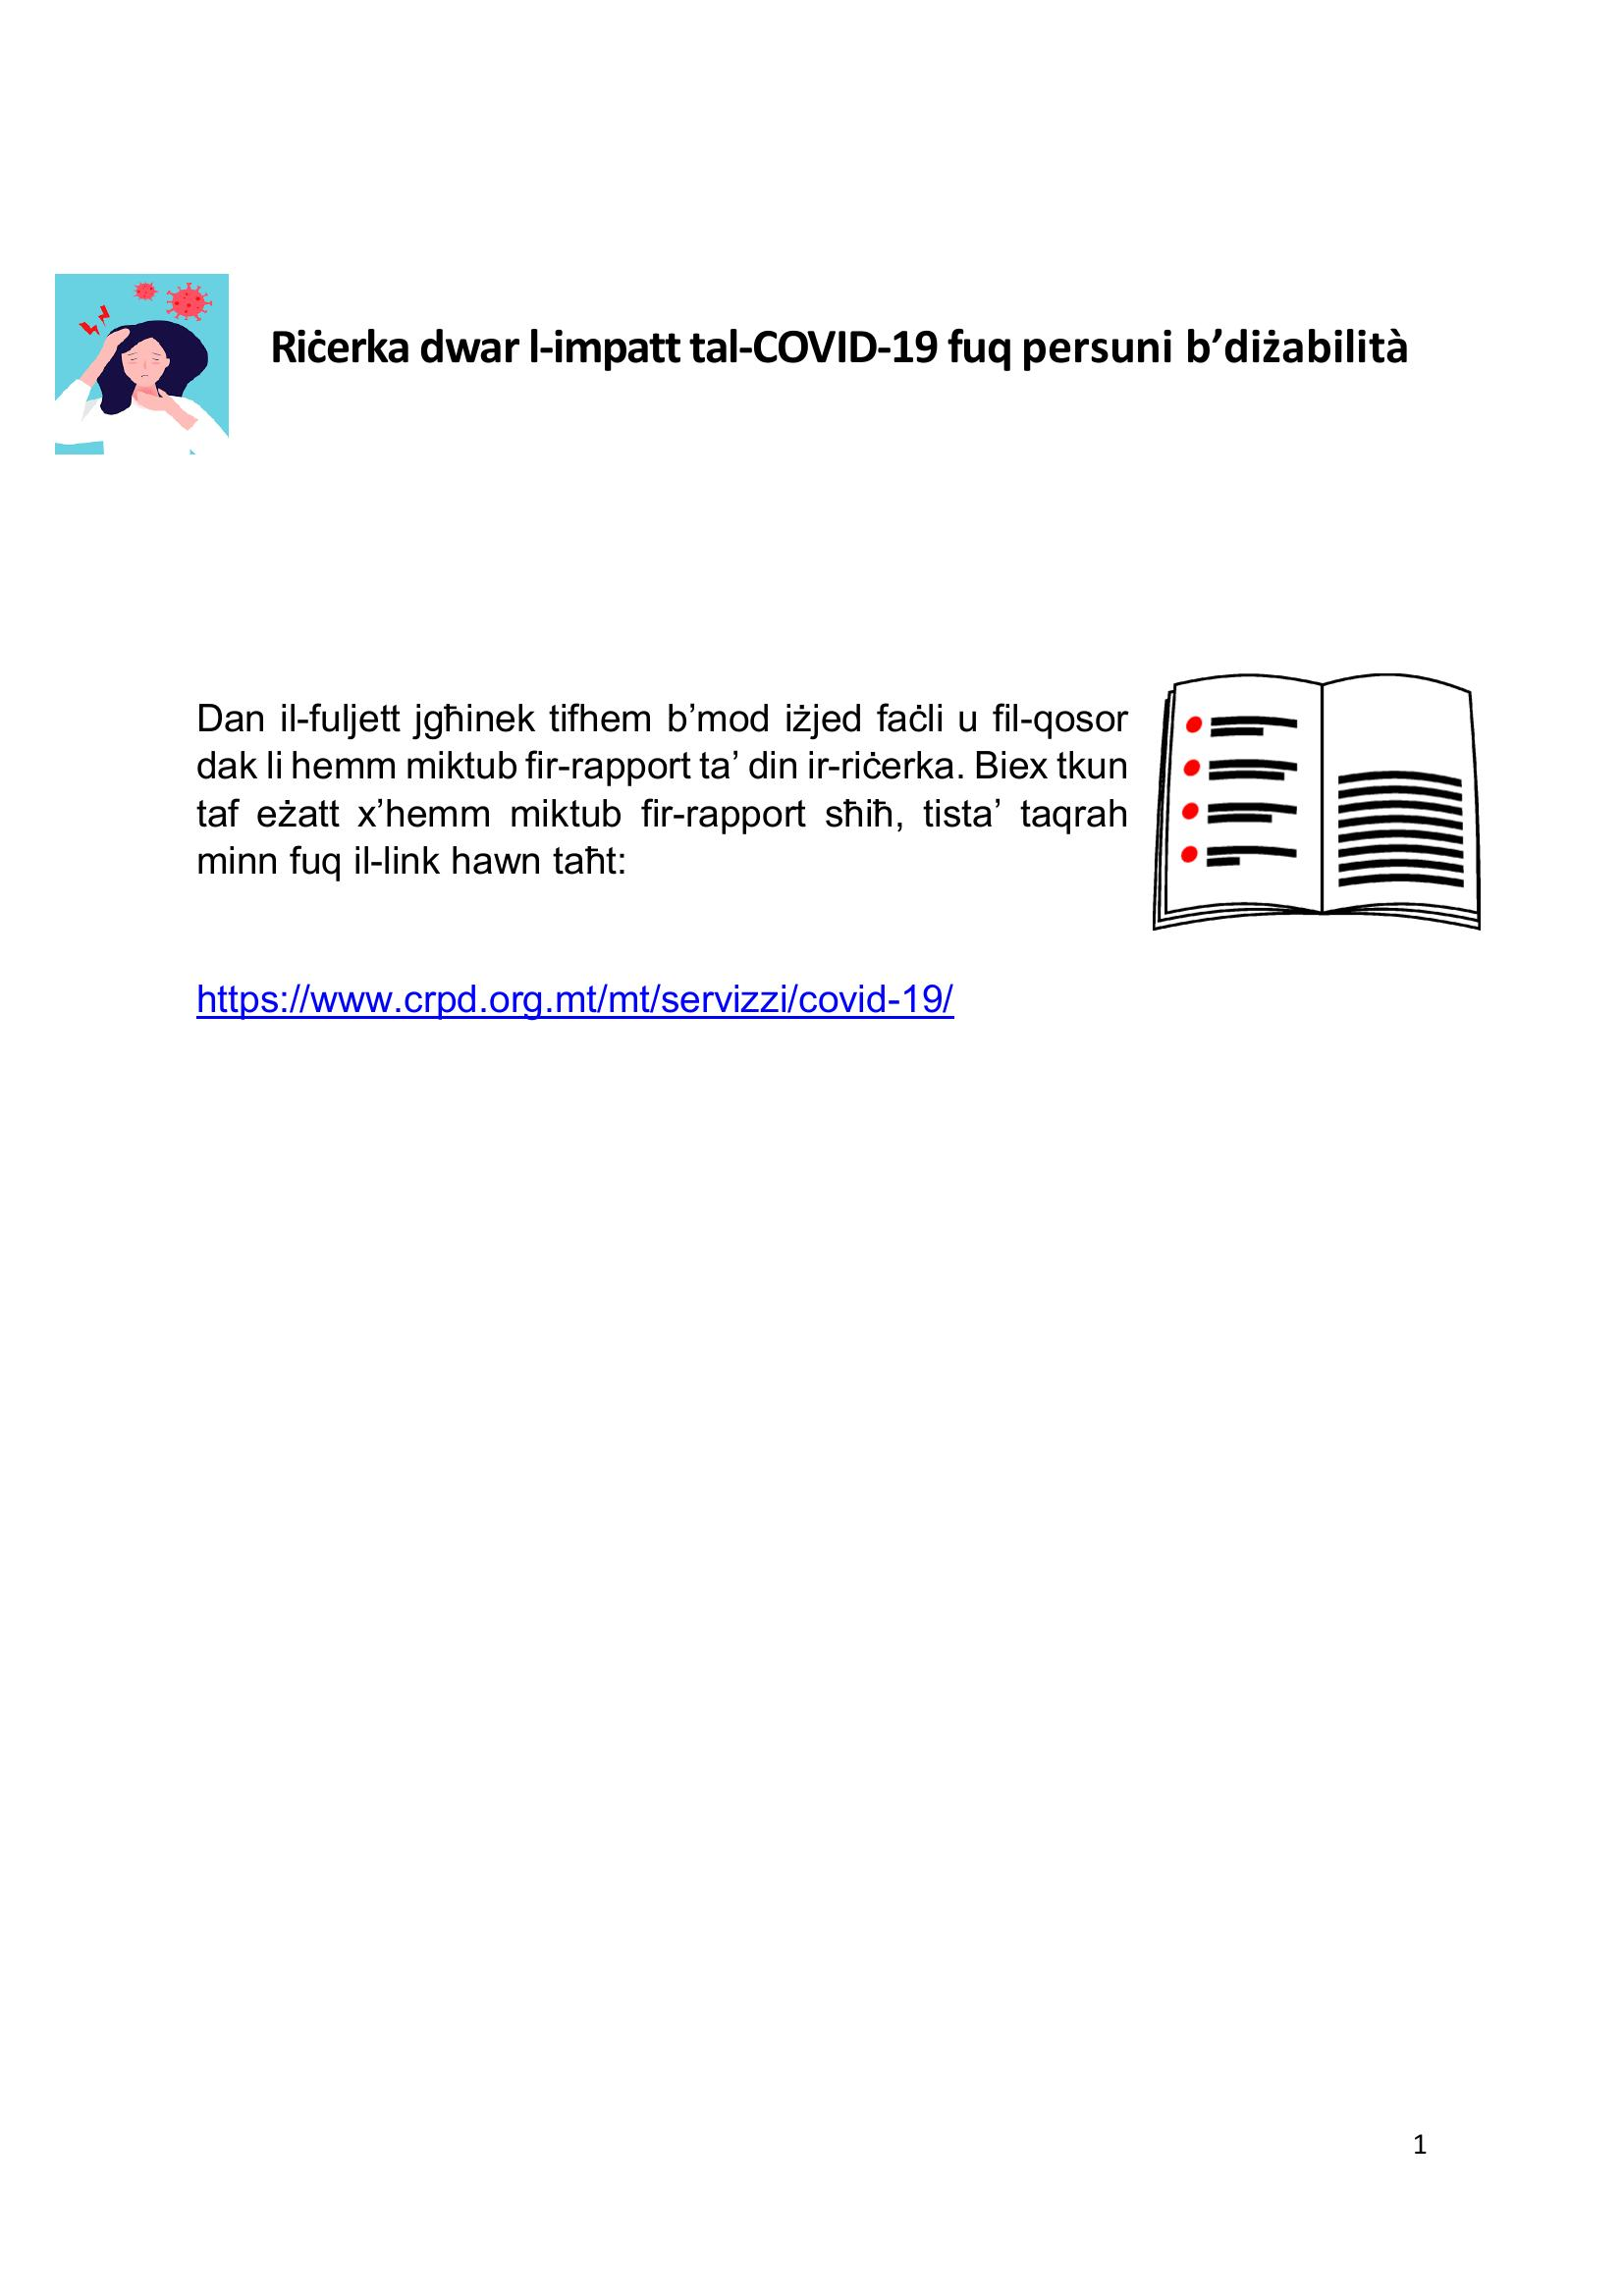text: (264, 297, 1439, 393)
